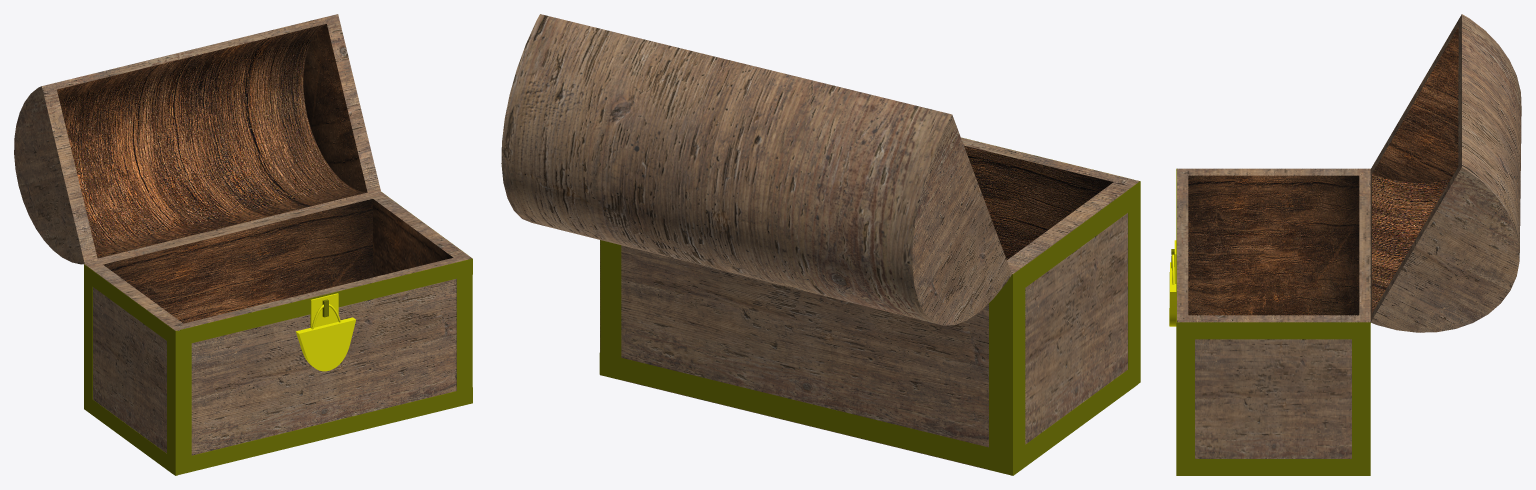
The model's file is chest.fbx.
3 renders of one model, left to right at view 1: azimuth 30°, elevation 25°; view 2: azimuth 150°, elevation 25°; view 3: azimuth 270°, elevation 25°, orthographic. The views are drawn at different scales.
Parts seen in each view (by area): view 1: Cylindre_2, Cube_5_2, Cube_1_3, Cube_3_2, Cylindre, Cube_5, Cube_4, cadena_padlock, Cube_2, Cube, Cube_3, Cube_6 (+3 smaller); view 2: Cylindre, Cube_5_2, Cube_10, Cube_1_3, Cube_9, Cube_12, Cube_8, Cube_6, Cube_7, Cube_3; view 3: Cube_5_2, Cube_1_3, Cylindre, Cylindre_2, Cube_13, Cube_14, Cube_15, Cube_1, Cube_3_2, cadena_padlock.
Part boxes in pixels (x1,y1,x2,y2): Cylindre_2: [57, 24, 367, 258]; Cube_5_2: [84, 191, 471, 474]; Cube_1_3: [103, 199, 453, 323]; Cube_3_2: [42, 14, 380, 263]; Cylindre: [14, 86, 84, 264]; Cube_5: [180, 387, 472, 474]; Cube_4: [180, 258, 472, 345]; cadena_padlock: [295, 317, 355, 371]; Cube_2: [176, 329, 191, 474]; Cube: [456, 259, 471, 406]; Cube_3: [167, 325, 177, 475]; Cube_6: [92, 271, 173, 345]; Cylindre: [501, 14, 1011, 325]; Cube_5_2: [600, 137, 1139, 473]; Cube_10: [600, 353, 1005, 473]; Cube_1_3: [964, 145, 1113, 259]; Cube_9: [989, 278, 1009, 474]; Cube_12: [600, 240, 621, 379]; Cube_8: [1009, 266, 1025, 475]; Cube_6: [1013, 183, 1137, 296]; Cube_7: [1013, 363, 1137, 475]; Cube_3: [1128, 181, 1140, 383]; Cube_5_2: [1177, 168, 1370, 458]; Cube_1_3: [1188, 175, 1359, 315]; Cylindre: [1371, 14, 1521, 332]; Cylindre_2: [1372, 27, 1458, 312]; Cube_13: [1179, 459, 1370, 475]; Cube_14: [1179, 322, 1370, 339]; Cube_15: [1352, 322, 1370, 475]; Cube_1: [1176, 321, 1194, 475]; Cube_3_2: [1370, 14, 1461, 321]; cadena_padlock: [1169, 262, 1176, 326].
Bounding box in the file's own units: 150 × 141 × 145.
Materials: 4 (2 with a texture image).
